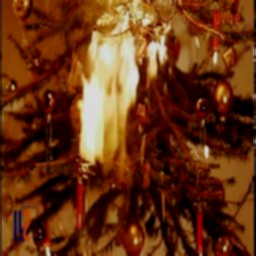fire: (68, 14, 176, 174)
